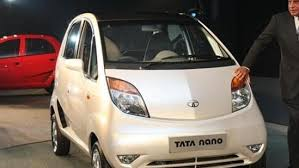Nano: (48, 9, 271, 168)
